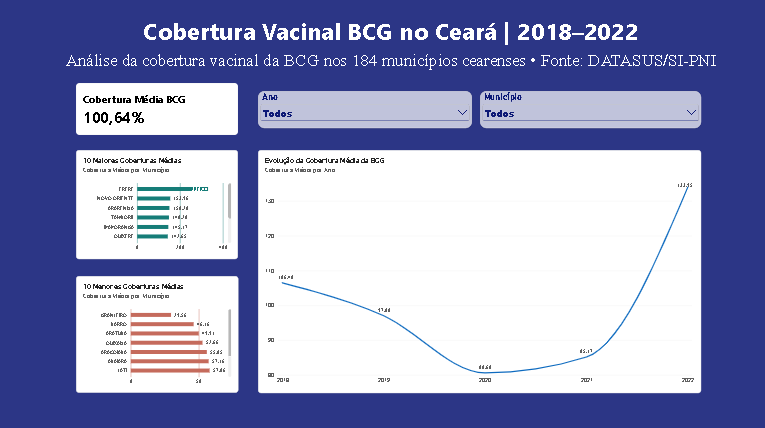

The page's visual inventory and layout, read from the dashboard file:
{"tool":"powerbi","page":{"name":"Visão Geral","canvas":[1920,1080],"ordinal":0},"visuals":[{"type":"cardVisual","fields":{"Data":["in.Cobertura Média Exibição"]},"box":[192.5,212.5,405,130],"z":0},{"type":"lineChart","title":"Evolução da Cobertura Média da BCG","fields":{"Category":["in.Ano"],"Y":["in.Cobertura Média"]},"box":[647.5,380,1107.5,607.5],"z":1000},{"type":"slicer","fields":{"Values":["in.Município"]},"box":[1203.3,233.3,553.3,93.3],"z":2000},{"type":"clusteredBarChart","title":"10 Maiores Coberturas Médias","fields":{"Category":["in.Município"],"Y":["in.Cobertura Média"]},"box":[192.5,380,405,272.5],"z":3000},{"type":"clusteredBarChart","title":"10 Menores Coberturas Médias","fields":{"Category":["in.Município"],"Y":["in.Cobertura Média"]},"box":[192.2,695.6,405.6,292.2],"z":4000},{"type":"textbox","box":[120,42.5,1717.5,87.5],"z":5000},{"type":"textbox","box":[142.5,130,1675,65],"z":6000},{"type":"slicer","fields":{"Values":["in.Ano"]},"box":[648.3,233.3,535,93.3],"z":7000}]}

Visuals, with their boxes in screenshot pixels (x1, y1, x2, y2), scaled from the page's 1920x1080 canvas onto the 765x428 screenshot:
cardVisual - in.Cobertura Média Exibição: Rect(77, 84, 238, 136)
"Evolução da Cobertura Média da BCG" lineChart: Rect(258, 151, 699, 391)
slicer - in.Município: Rect(479, 92, 700, 129)
"10 Maiores Coberturas Médias" clusteredBarChart: Rect(77, 151, 238, 259)
"10 Menores Coberturas Médias" clusteredBarChart: Rect(77, 276, 238, 391)
textbox: Rect(48, 17, 732, 52)
textbox: Rect(57, 52, 724, 77)
slicer - in.Ano: Rect(258, 92, 471, 129)
